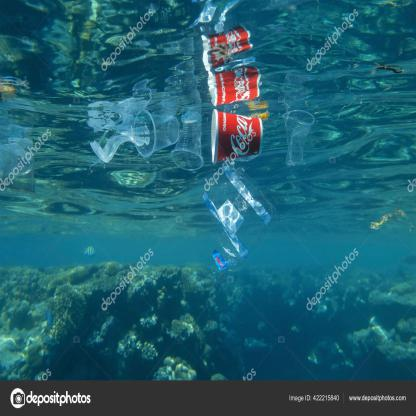plastic-bag: (206, 166, 277, 257), (0, 74, 38, 194)
waste: (212, 108, 263, 163), (134, 111, 180, 158), (284, 108, 315, 169), (210, 73, 262, 107), (176, 109, 204, 170), (370, 210, 416, 234)
